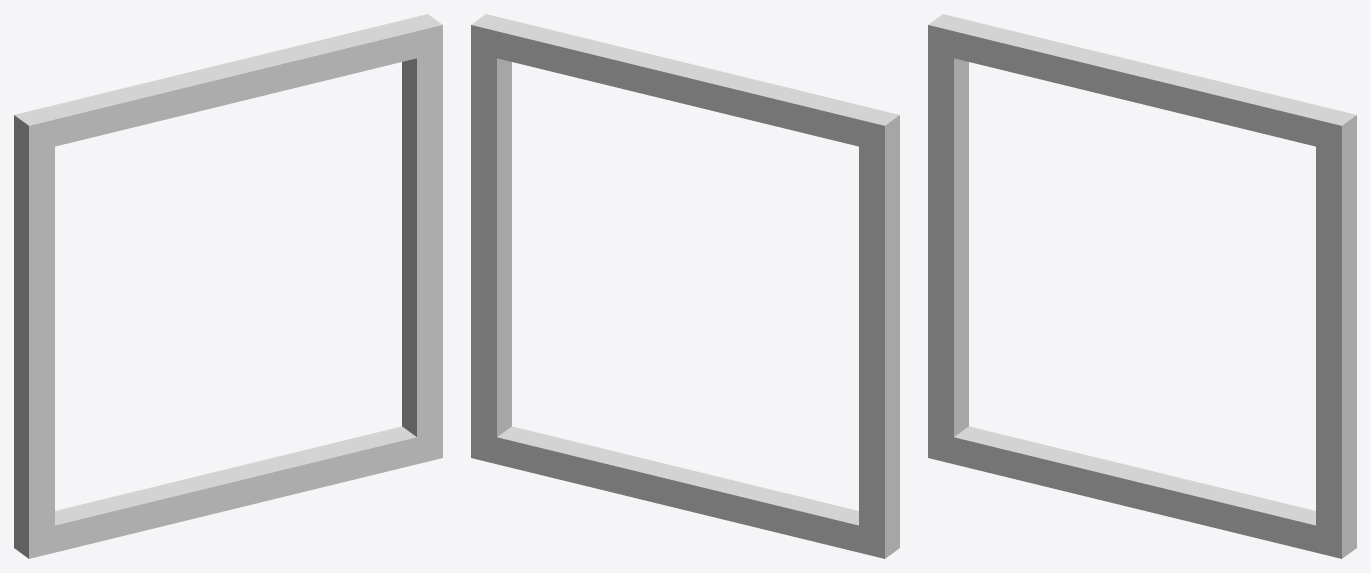
Rendered from frame_.obj.
3 renders of one model, left to right at view 1: azimuth 30°, elevation 25°; view 2: azimuth 150°, elevation 25°; view 3: azimuth 330°, elevation 25°, orthographic.
Size of the model in its own units: 16 by 16 by 1.
1 material, 1 textured.
